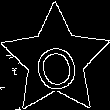O_N: (28, 29, 83, 92)
